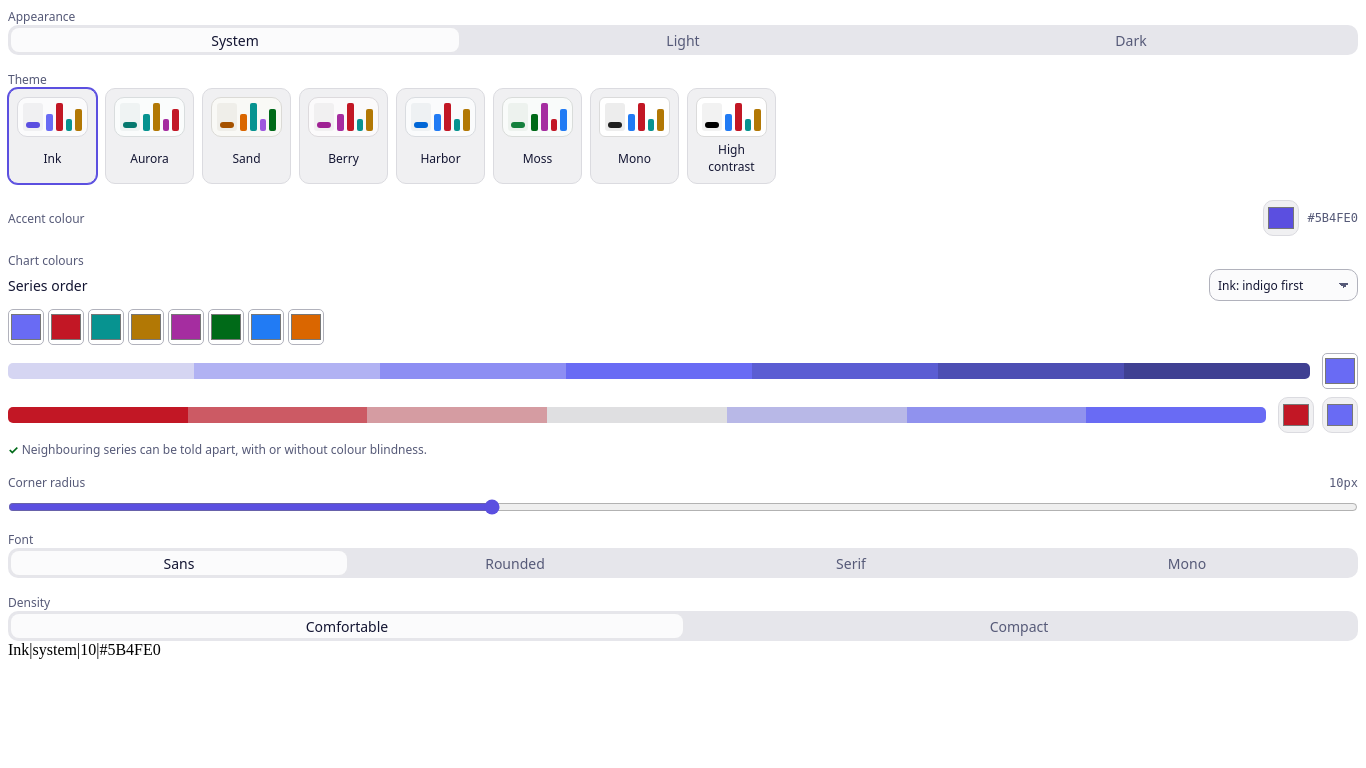
ThemePicker › keeps a choice made before the saved one loads, and ignores saved text it cannot read
This screenshot has width=1366, height=768.
Later steps or results of the test are not shown.
Click the radio button labelled "Dark" at (1131, 40), box 1115,30 -> 1147,50
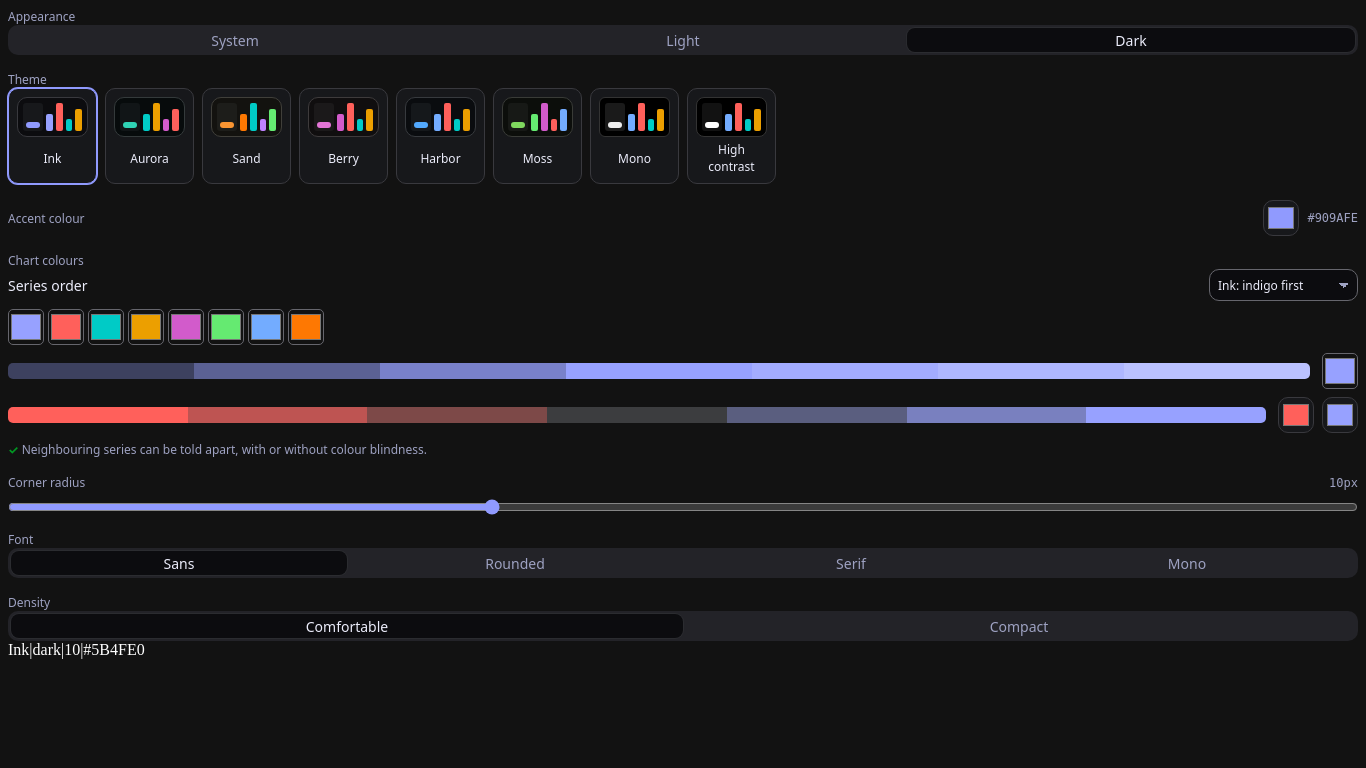
Now the text with test id "probe" shows "|dark|", box 8,641 -> 145,658
